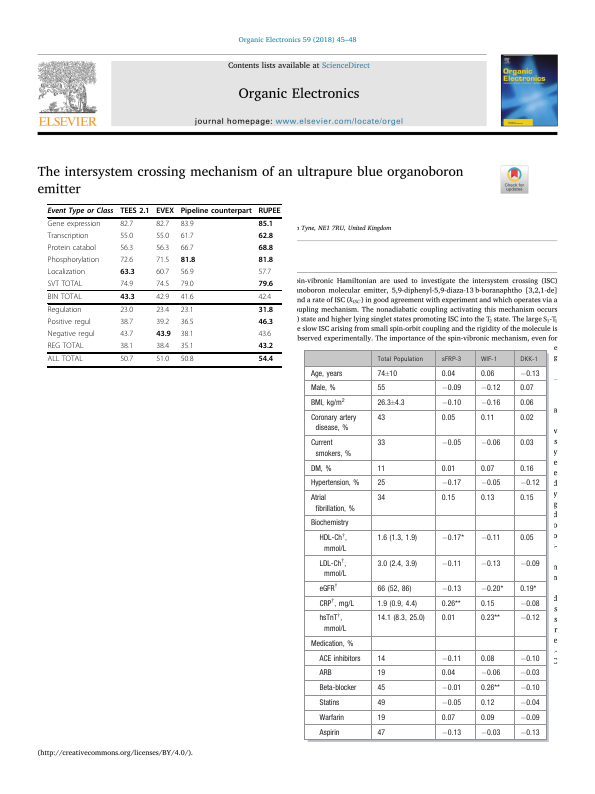bordered: (304, 348, 546, 739)
borderless: (46, 203, 281, 366)
cell: (309, 414, 357, 433), (309, 494, 355, 513), (309, 439, 352, 459), (180, 207, 253, 216), (318, 532, 347, 554), (318, 558, 347, 579), (318, 613, 347, 634), (47, 207, 114, 216), (47, 220, 101, 230), (47, 256, 100, 266), (47, 244, 97, 254), (47, 330, 96, 340), (309, 479, 360, 488), (47, 318, 92, 328), (376, 614, 425, 623), (47, 232, 89, 242), (309, 639, 354, 648), (309, 397, 345, 408), (47, 268, 86, 278), (318, 654, 361, 663), (376, 534, 418, 543), (376, 559, 418, 568), (376, 599, 418, 608), (376, 356, 423, 364), (47, 342, 84, 352), (309, 519, 349, 528), (376, 584, 412, 594), (318, 598, 354, 608), (47, 293, 83, 303), (47, 306, 83, 316), (318, 684, 357, 693), (47, 356, 84, 365), (47, 280, 83, 289), (309, 369, 343, 378), (119, 207, 150, 216), (376, 399, 405, 408), (479, 584, 504, 594), (309, 384, 336, 393), (318, 713, 345, 722), (257, 207, 282, 216), (318, 583, 338, 594), (440, 584, 462, 594), (318, 698, 340, 708), (440, 698, 462, 708), (440, 534, 464, 543), (519, 698, 540, 708), (309, 464, 332, 473), (376, 369, 398, 378), (440, 384, 462, 393), (479, 384, 501, 393), (440, 399, 462, 408), (479, 399, 501, 408), (440, 439, 462, 448), (479, 439, 501, 448), (440, 479, 462, 488), (479, 479, 501, 488), (479, 534, 501, 543), (440, 559, 462, 568), (479, 559, 501, 568), (440, 654, 462, 663), (479, 669, 501, 678), (440, 684, 462, 693), (318, 728, 340, 737), (440, 728, 462, 737), (479, 728, 501, 737), (519, 369, 540, 378), (519, 479, 540, 488), (519, 559, 540, 568), (440, 599, 461, 608), (519, 599, 540, 608), (479, 614, 500, 623), (519, 614, 540, 623), (519, 654, 540, 663), (519, 669, 540, 678), (479, 684, 500, 693), (519, 684, 540, 693), (519, 713, 540, 722), (519, 728, 540, 737), (519, 584, 537, 594), (155, 207, 175, 216), (440, 356, 462, 364), (257, 306, 274, 316), (257, 318, 274, 328), (155, 330, 172, 340), (257, 342, 274, 352), (479, 698, 495, 708), (257, 220, 274, 229), (257, 232, 274, 241), (257, 244, 274, 253), (257, 256, 274, 265), (119, 268, 136, 277), (257, 280, 274, 289), (119, 293, 136, 302), (257, 356, 274, 365), (519, 356, 538, 364), (119, 220, 134, 230), (155, 220, 170, 230), (119, 232, 134, 242), (155, 232, 170, 242), (119, 244, 134, 254), (155, 244, 170, 254), (119, 256, 134, 266), (155, 256, 170, 266), (155, 268, 170, 278), (257, 268, 272, 278), (155, 293, 170, 303), (257, 293, 272, 303), (119, 306, 134, 316), (155, 306, 170, 316), (119, 318, 134, 328), (155, 318, 170, 328), (119, 330, 134, 340), (257, 330, 272, 340), (119, 342, 134, 352), (155, 342, 170, 352), (479, 356, 497, 364), (440, 369, 456, 378), (479, 369, 495, 378), (440, 414, 456, 423), (479, 414, 495, 423), (440, 464, 456, 473), (479, 464, 495, 473), (440, 494, 456, 503), (479, 494, 495, 503), (479, 599, 495, 608), (440, 614, 456, 623), (479, 654, 495, 663), (440, 669, 456, 678), (440, 713, 456, 722), (479, 713, 495, 722), (180, 256, 196, 265), (180, 220, 194, 230), (180, 232, 194, 242), (180, 244, 194, 254), (180, 268, 194, 278), (180, 293, 194, 303), (180, 306, 194, 316), (180, 318, 194, 328), (180, 330, 194, 340), (180, 342, 194, 352), (519, 384, 534, 393), (519, 399, 534, 408), (519, 414, 534, 423), (519, 439, 534, 448), (519, 464, 534, 473), (519, 494, 534, 503), (519, 534, 534, 543), (119, 280, 134, 289), (155, 280, 170, 289), (119, 356, 134, 365), (155, 356, 170, 365), (318, 669, 332, 678), (180, 280, 194, 289), (180, 356, 194, 365), (376, 698, 386, 708), (376, 384, 386, 393), (376, 414, 386, 423), (376, 439, 386, 448), (376, 464, 386, 473), (376, 479, 386, 488), (376, 494, 386, 503), (376, 654, 386, 663), (376, 669, 386, 678), (376, 684, 386, 693), (376, 713, 386, 722), (376, 728, 386, 737)
